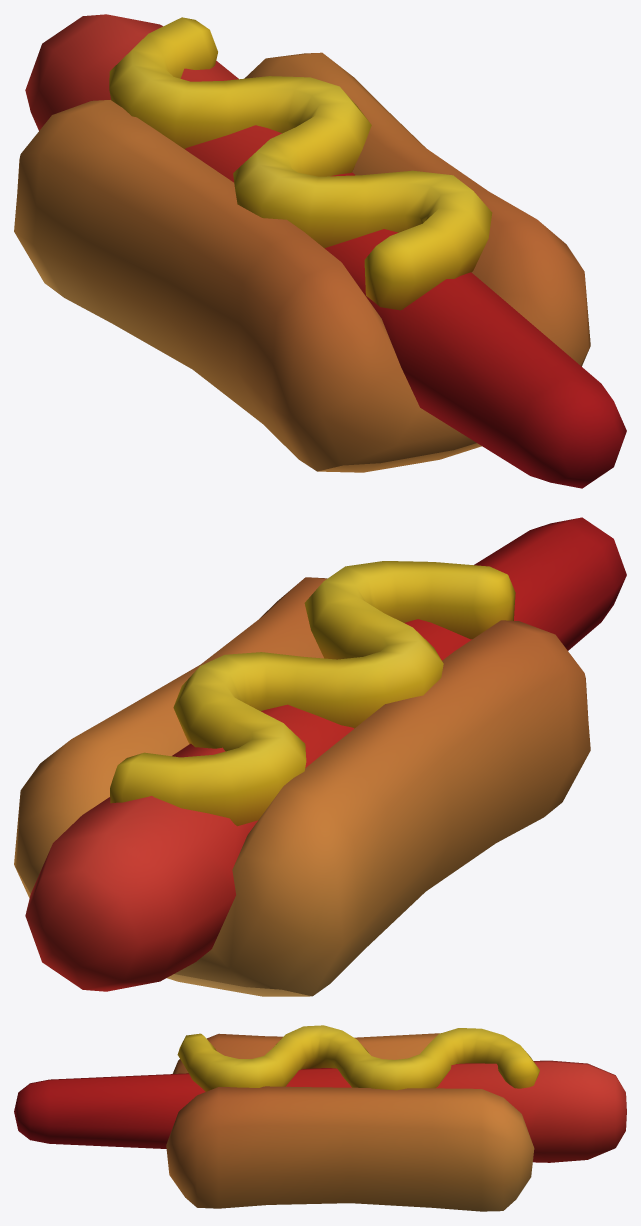
The model's file is Melee_Hotdog.fbx.
The picture shows the model from 3 angles, top to bottom: view 1: azimuth 30°, elevation 25°; view 2: azimuth 150°, elevation 25°; view 3: azimuth 270°, elevation 25°; orthographic projection. The views are drawn at different scales.
Parts seen in each view (by area): view 1: Melee_Hotdog; view 2: Melee_Hotdog; view 3: Melee_Hotdog.
Boxes of the visible parts, x1=… form: Melee_Hotdog: x1=14, y1=14, x2=626, y2=488; Melee_Hotdog: x1=14, y1=517, x2=626, y2=996; Melee_Hotdog: x1=14, y1=1025, x2=626, y2=1211.
Bounding box in the file's own units: 0.3536 × 0.2427 × 0.9732.
